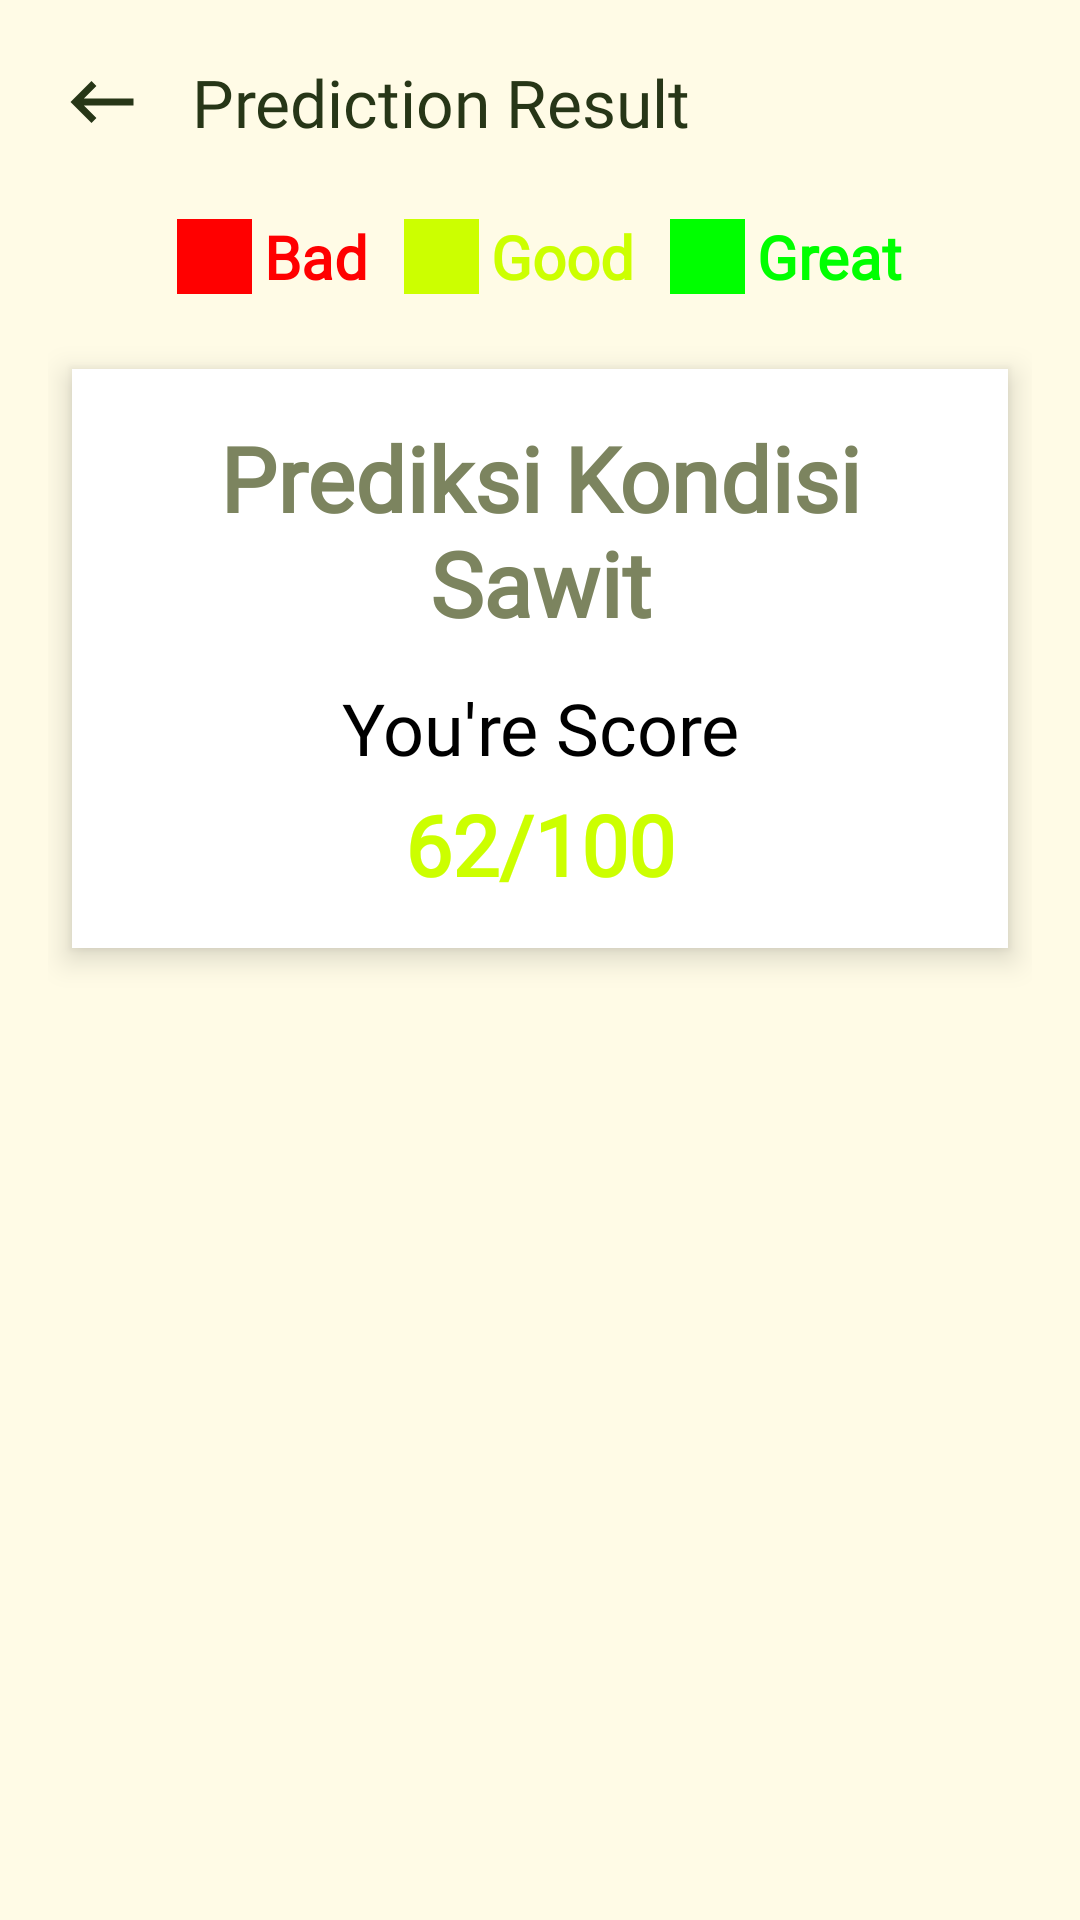

Point at icon controls on the screen. Image size 1080w x 1920h, points as point (x, y).
Back: point (102, 102)
